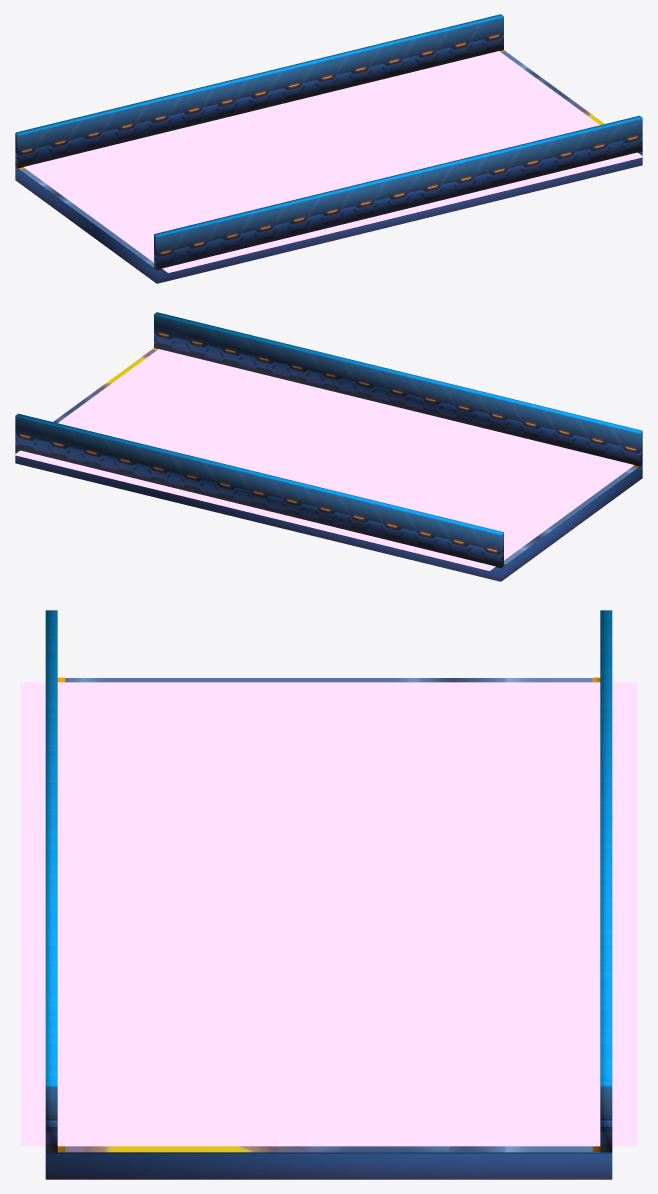
The model's file is Duel_Stage 50.fbx.
3 renders of one model, top to bottom at view 1: azimuth 30°, elevation 25°; view 2: azimuth 150°, elevation 25°; view 3: azimuth 270°, elevation 25°, orthographic. The views are drawn at different scales.
Parts seen in each view (by area): view 1: Plane.031, DB_Platform_Cube_Floor.014, DB_Platform_Cube_Floor.013; view 2: Plane.031, DB_Platform_Cube_Floor.014, DB_Platform_Cube_Floor.013; view 3: Plane.031, DB_Platform_Cube_Floor.013, DB_Platform_Cube_Floor.014.
Boxes of the visible parts, bbox=[...] form: Plane.031: bbox=[14, 51, 643, 272]; DB_Platform_Cube_Floor.014: bbox=[15, 14, 642, 269]; DB_Platform_Cube_Floor.013: bbox=[15, 51, 642, 283]; Plane.031: bbox=[14, 349, 643, 570]; DB_Platform_Cube_Floor.014: bbox=[15, 312, 642, 567]; DB_Platform_Cube_Floor.013: bbox=[15, 349, 642, 581]; Plane.031: bbox=[20, 682, 637, 1146]; DB_Platform_Cube_Floor.013: bbox=[45, 678, 612, 1179]; DB_Platform_Cube_Floor.014: bbox=[45, 610, 612, 1152].
Size of the model in its own units: 3712 by 347 by 2043.
